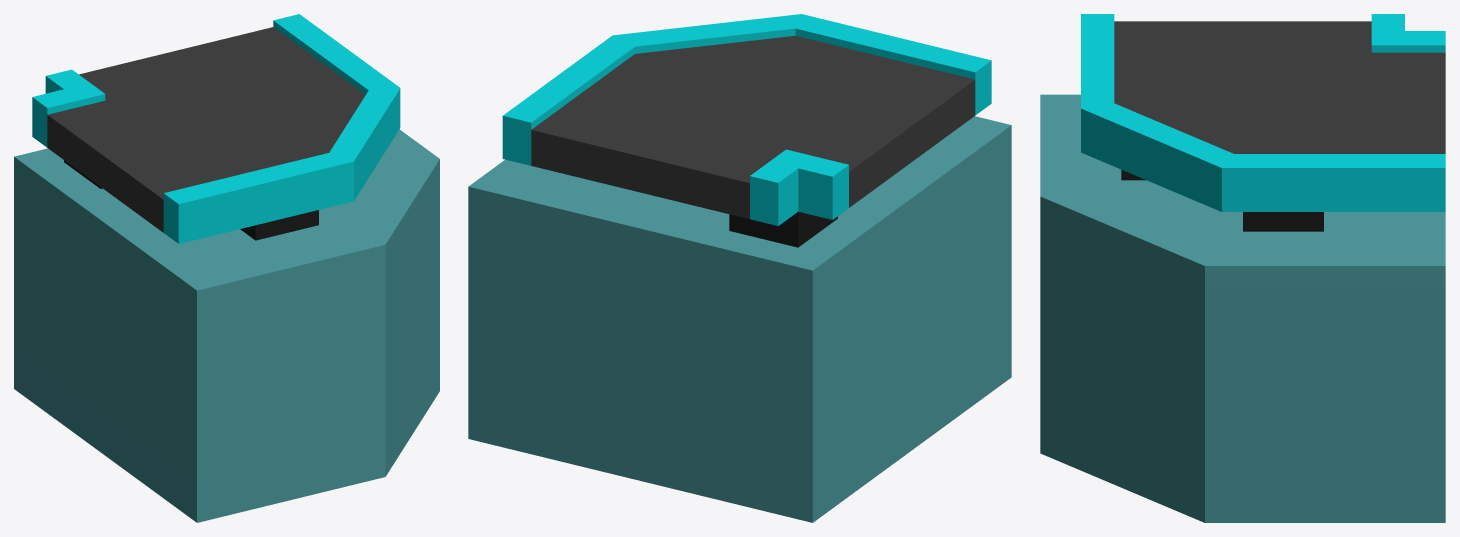
Rendered from conveyor_corner_1.fbx.
The picture shows the model from 3 angles, left to right: view 1: azimuth 30°, elevation 25°; view 2: azimuth 150°, elevation 25°; view 3: azimuth 270°, elevation 25°; orthographic projection. The views are drawn at different scales.
Visible parts, largest first — view 1: conveyor_corner_1; view 2: conveyor_corner_1; view 3: conveyor_corner_1.
Boxes of the visible parts, bbox=[...] form: conveyor_corner_1: bbox=[14, 14, 439, 522]; conveyor_corner_1: bbox=[468, 14, 1011, 522]; conveyor_corner_1: bbox=[1040, 14, 1445, 522].
Size of the model in its own units: 100 by 92 by 100.
